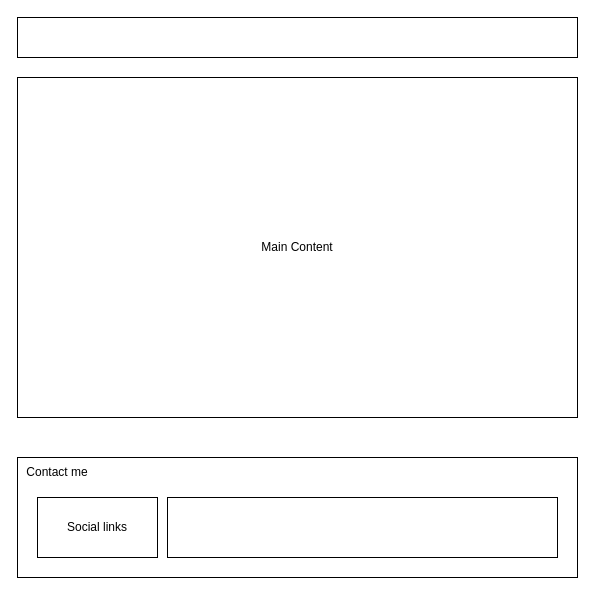
Some shapes in this 595 by 595 pixel diagram are drawn without their labels. The centre of each missing label's shape, as x and y in pixels:
"Email Services" belongs at [362,527].
"NavBar" belongs at [297,37].
